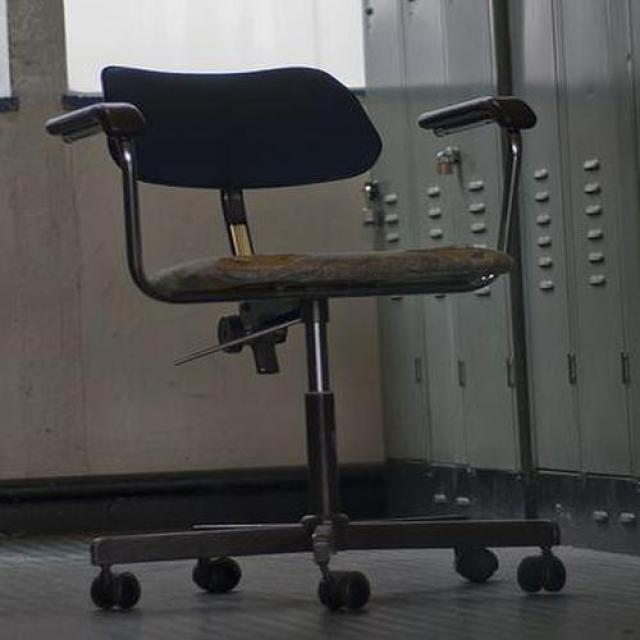swivelchair: (44, 67, 568, 614)
